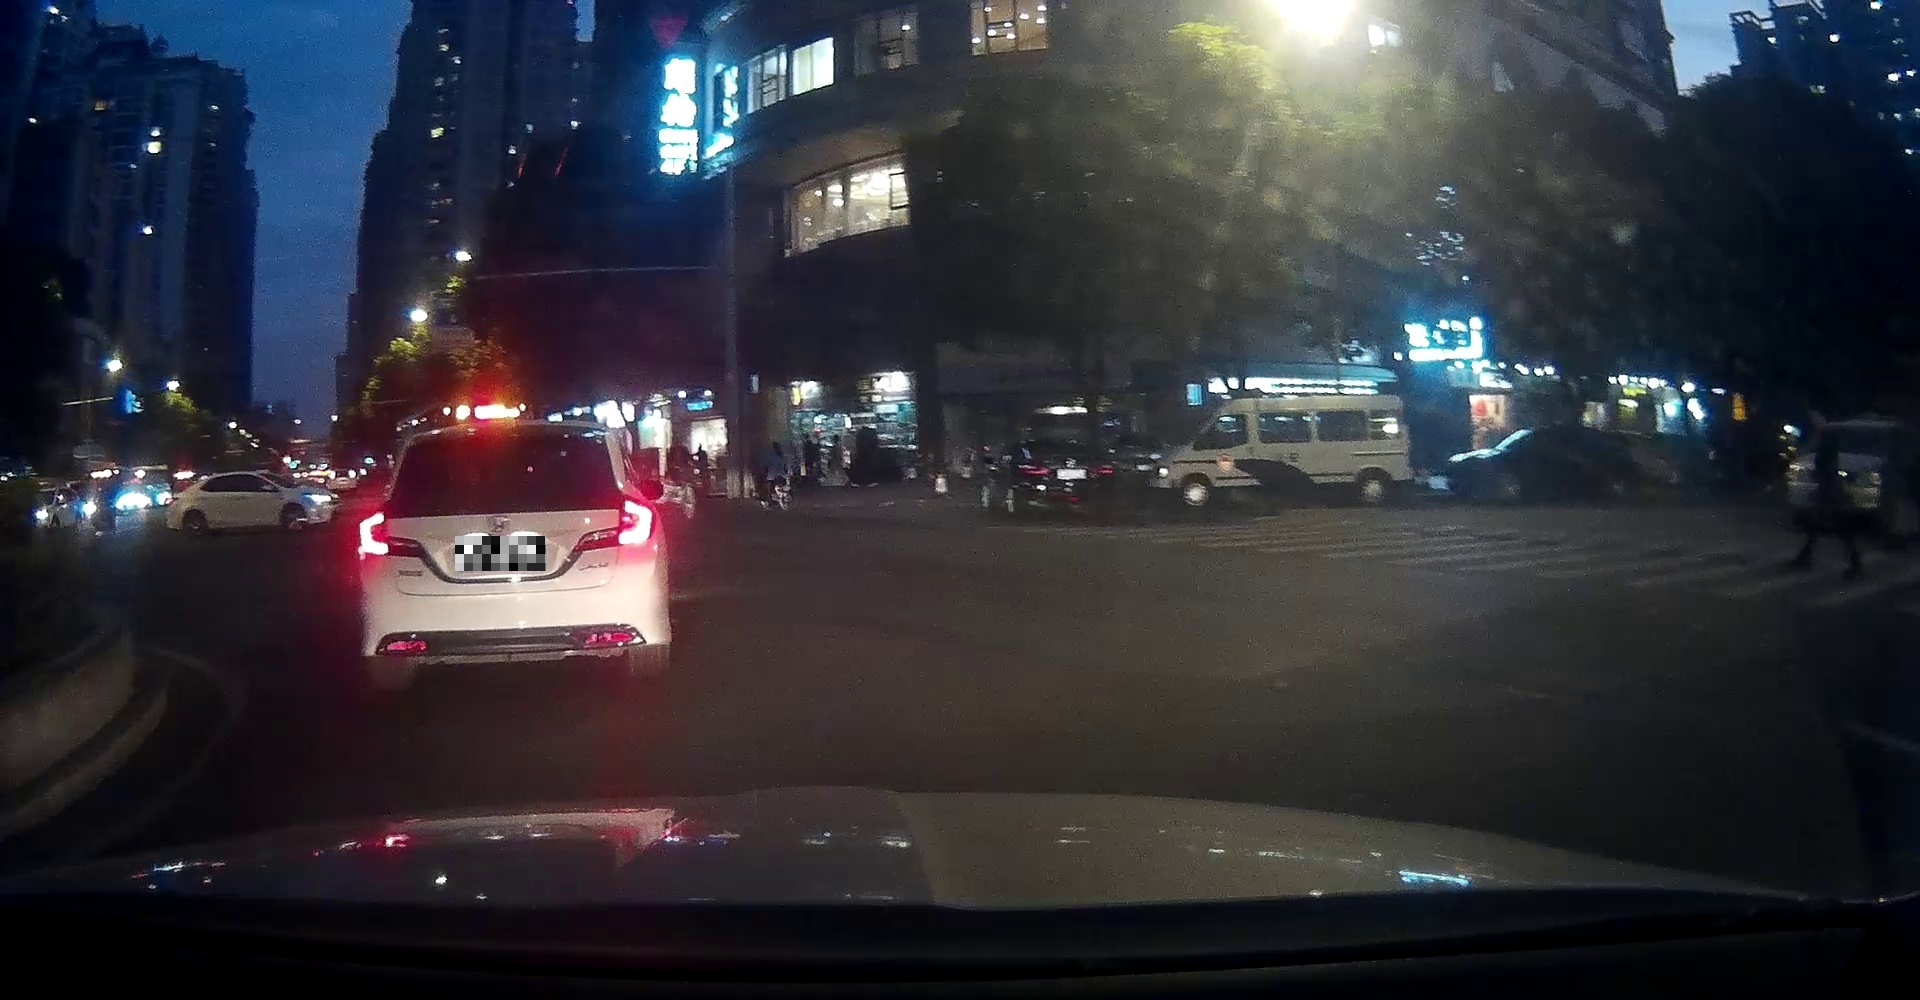L_light: (357, 511, 423, 558), (1016, 462, 1051, 478)
R_light: (570, 494, 654, 551), (1086, 462, 1117, 476)
T_light: (472, 430, 530, 442), (1050, 444, 1067, 447)
night-no: (358, 418, 670, 692), (1010, 437, 1117, 520)
plate_1: (455, 536, 546, 571)
